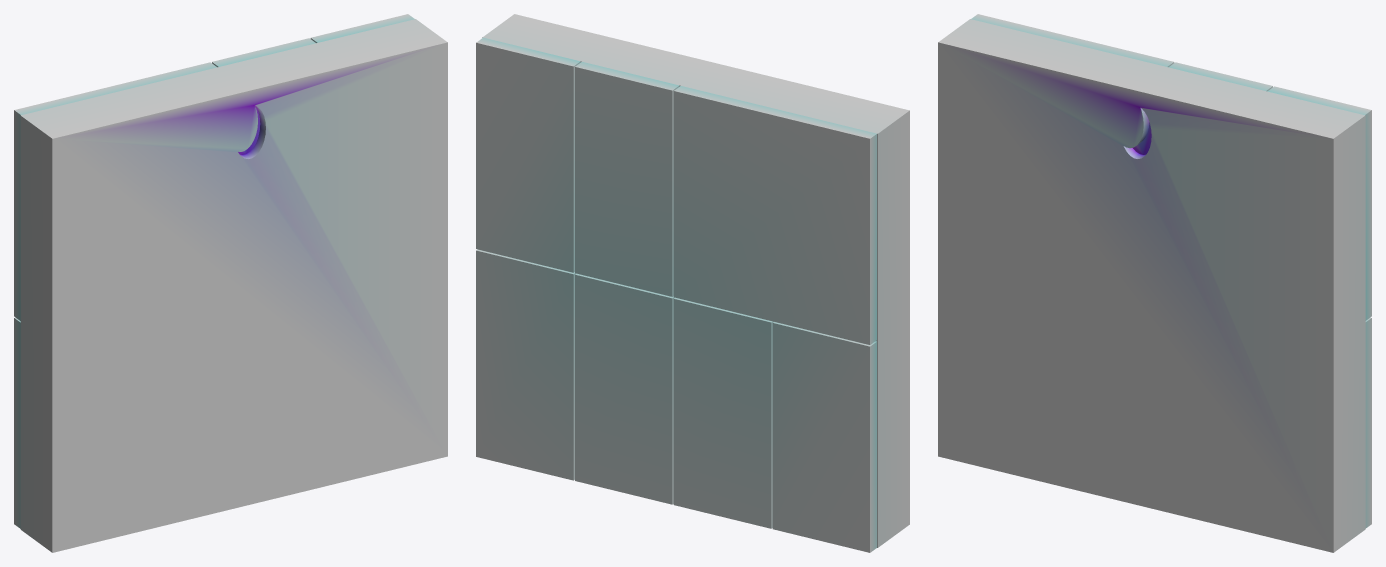
Rendered from simready-socket_b03.glb.
3 views of the same model, side by side, from view 1: azimuth 30°, elevation 25°; view 2: azimuth 150°, elevation 25°; view 3: azimuth 330°, elevation 25° (orthographic).
Visible parts, largest first — view 1: backing, tile.004, tile, tile.005, tile.006; view 2: tile.004, backing, tile, tile.005, tile.006, tile.001, tile.002, tile.003; view 3: backing, tile.006, tile.004, tile.003, tile.005.
Boxes of the visible parts, bbox=[...] form: backing: bbox=[20, 19, 447, 552]; tile.004: bbox=[14, 62, 216, 320]; tile: bbox=[14, 317, 20, 528]; tile.005: bbox=[212, 38, 315, 67]; tile.006: bbox=[310, 14, 414, 42]; tile.004: bbox=[673, 86, 876, 344]; backing: bbox=[482, 14, 909, 547]; tile: bbox=[772, 322, 876, 552]; tile.005: bbox=[575, 61, 679, 296]; tile.006: bbox=[476, 37, 580, 272]; tile.001: bbox=[673, 297, 773, 528]; tile.002: bbox=[575, 273, 674, 504]; tile.003: bbox=[476, 249, 575, 480]; backing: bbox=[938, 19, 1365, 552]; tile.006: bbox=[1267, 86, 1371, 320]; tile.004: bbox=[971, 14, 1174, 67]; tile.003: bbox=[1365, 317, 1371, 528]; tile.005: bbox=[1169, 62, 1272, 91].
Bounding box in the file's own units: 0.0999 × 0.1 × 0.0171.
